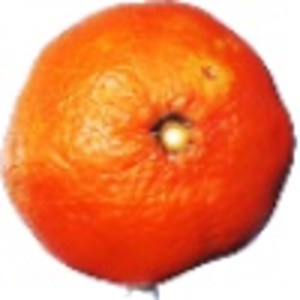tangerina: (1, 1, 300, 300)
